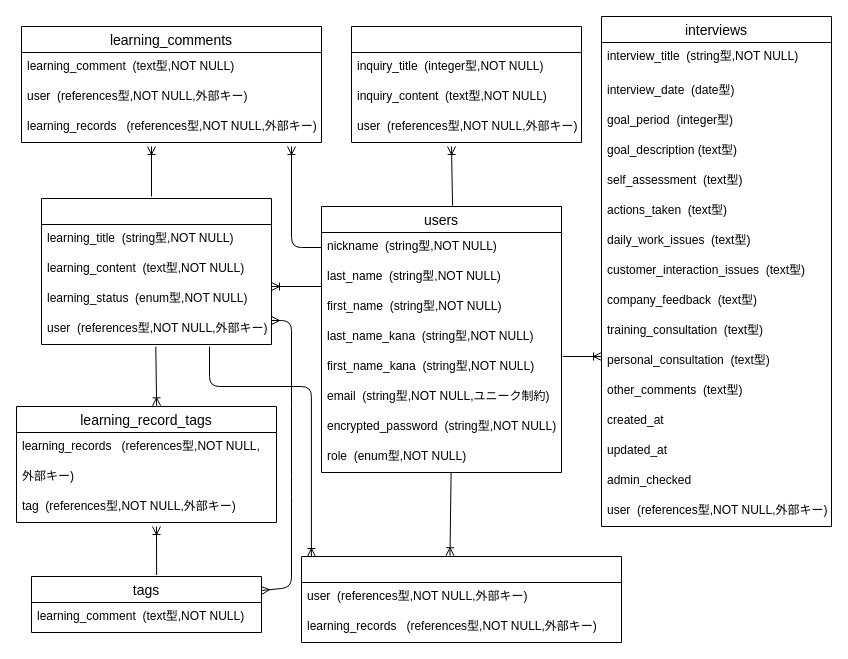
The diagram is 848 pixels wide and 659 high, and some of its shapes have lost their labels. Here are the shapes that lost their labels. From the top down, the box of each, then its label:
(350, 26, 582, 142): inquiries
(40, 198, 272, 344): learning_records
(300, 556, 622, 642): likes
